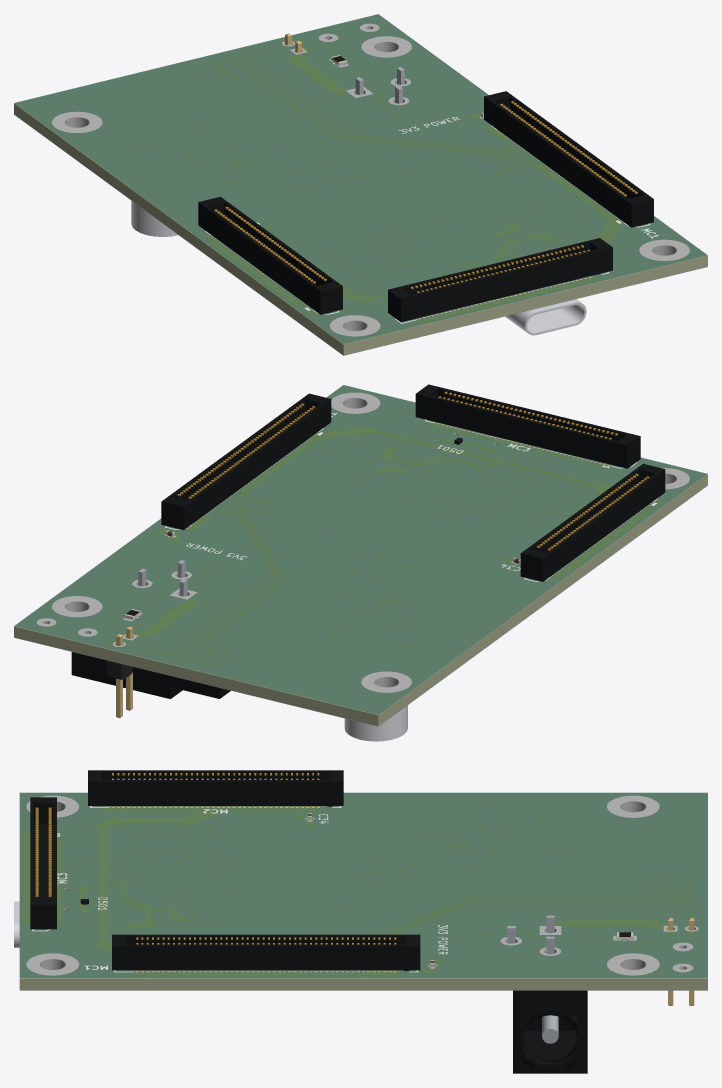
Rendered from Carrier_V42_Interactive.glb.
3 views of the same model, one above another, from view 1: azimuth 30°, elevation 25°; view 2: azimuth 150°, elevation 25°; view 3: azimuth 270°, elevation 25° (orthographic). The views are drawn at different scales.
Parts seen in each view (by area): view 1: Carrier_V42_Public_Visualization_soldermask (×2), Carrier_V42_Public_Visualization_PCB, MC3, MC1, MC2, Carrier_V42_Public_Visualization_pad, Carrier_V42_Public_Visualization_copper, J500, C5; view 2: Carrier_V42_Public_Visualization_soldermask (×2), Carrier_V42_Public_Visualization_PCB, MC3, MC1, MC2, Carrier_V42_Public_Visualization_copper, Carrier_V42_Public_Visualization_pad, J4, C5, J1, JP1; view 3: Carrier_V42_Public_Visualization_soldermask (×2), Carrier_V42_Public_Visualization_PCB, MC1, MC2, J4, Carrier_V42_Public_Visualization_copper, Carrier_V42_Public_Visualization_pad, MC3, Carrier_V42_Public_Visualization_silkscreen.
Part boxes in pixels (x1,y1,x2,y2): Carrier_V42_Public_Visualization_soldermask (×2): [14, 14, 707, 355]; Carrier_V42_Public_Visualization_PCB: [14, 15, 707, 355]; MC3: [388, 238, 612, 322]; MC1: [484, 91, 653, 227]; MC2: [198, 196, 342, 314]; Carrier_V42_Public_Visualization_pad: [52, 23, 689, 336]; Carrier_V42_Public_Visualization_copper: [136, 40, 622, 322]; J500: [505, 299, 586, 335]; C5: [131, 201, 178, 236]; Carrier_V42_Public_Visualization_soldermask (×2): [14, 385, 707, 726]; Carrier_V42_Public_Visualization_PCB: [14, 386, 707, 726]; MC3: [415, 384, 640, 468]; MC1: [161, 393, 331, 529]; MC2: [520, 463, 665, 581]; Carrier_V42_Public_Visualization_copper: [97, 422, 663, 666]; Carrier_V42_Public_Visualization_pad: [36, 392, 689, 692]; J4: [71, 560, 187, 698]; C5: [344, 705, 407, 741]; J1: [133, 667, 230, 698]; JP1: [106, 626, 132, 718]; Carrier_V42_Public_Visualization_soldermask (×2): [19, 792, 707, 990]; Carrier_V42_Public_Visualization_PCB: [19, 793, 707, 990]; MC1: [112, 934, 420, 971]; MC2: [88, 770, 343, 806]; J4: [507, 915, 587, 1073]; Carrier_V42_Public_Visualization_copper: [24, 801, 699, 976]; Carrier_V42_Public_Visualization_pad: [26, 795, 698, 975]; MC3: [30, 797, 56, 929]; Carrier_V42_Public_Visualization_silkscreen: [32, 806, 627, 972].
Bounding box in the file's own units: 0.053 × 0.0163 × 0.0837.
